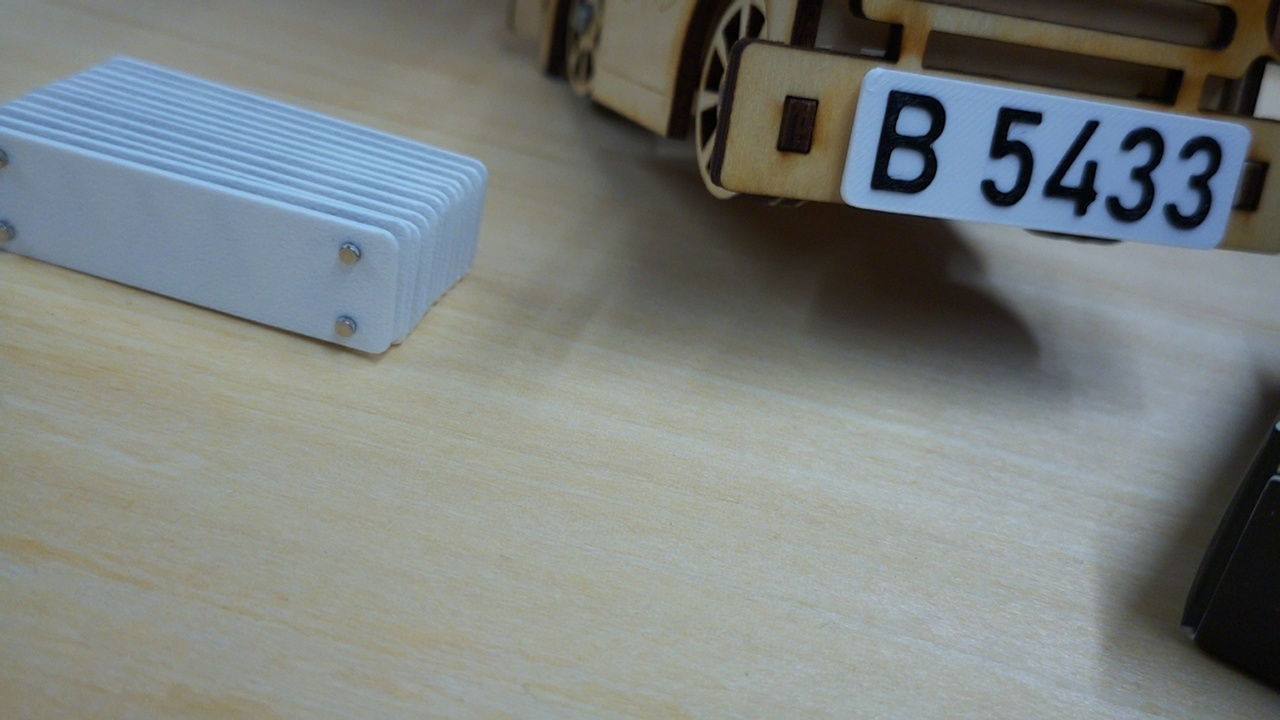license_plate: (0, 124, 401, 359), (839, 64, 1254, 253)
